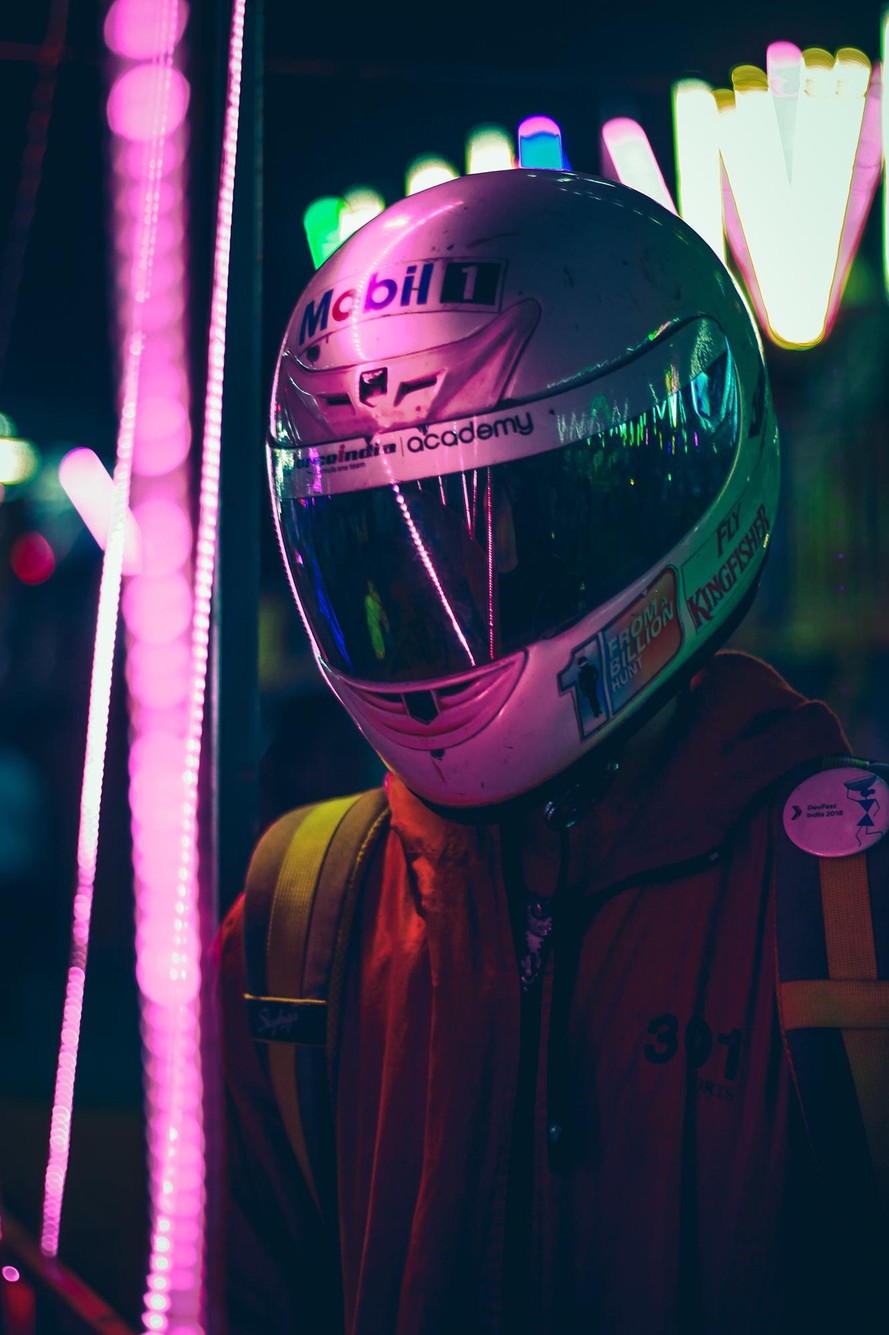helmet: (263, 164, 785, 832)
